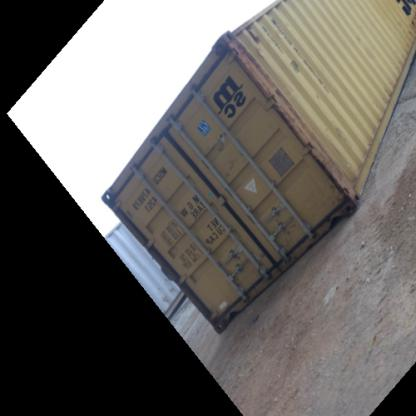Damage: (282, 104, 355, 216), (223, 34, 276, 98), (350, 21, 363, 45), (405, 10, 415, 40), (285, 54, 301, 71)
